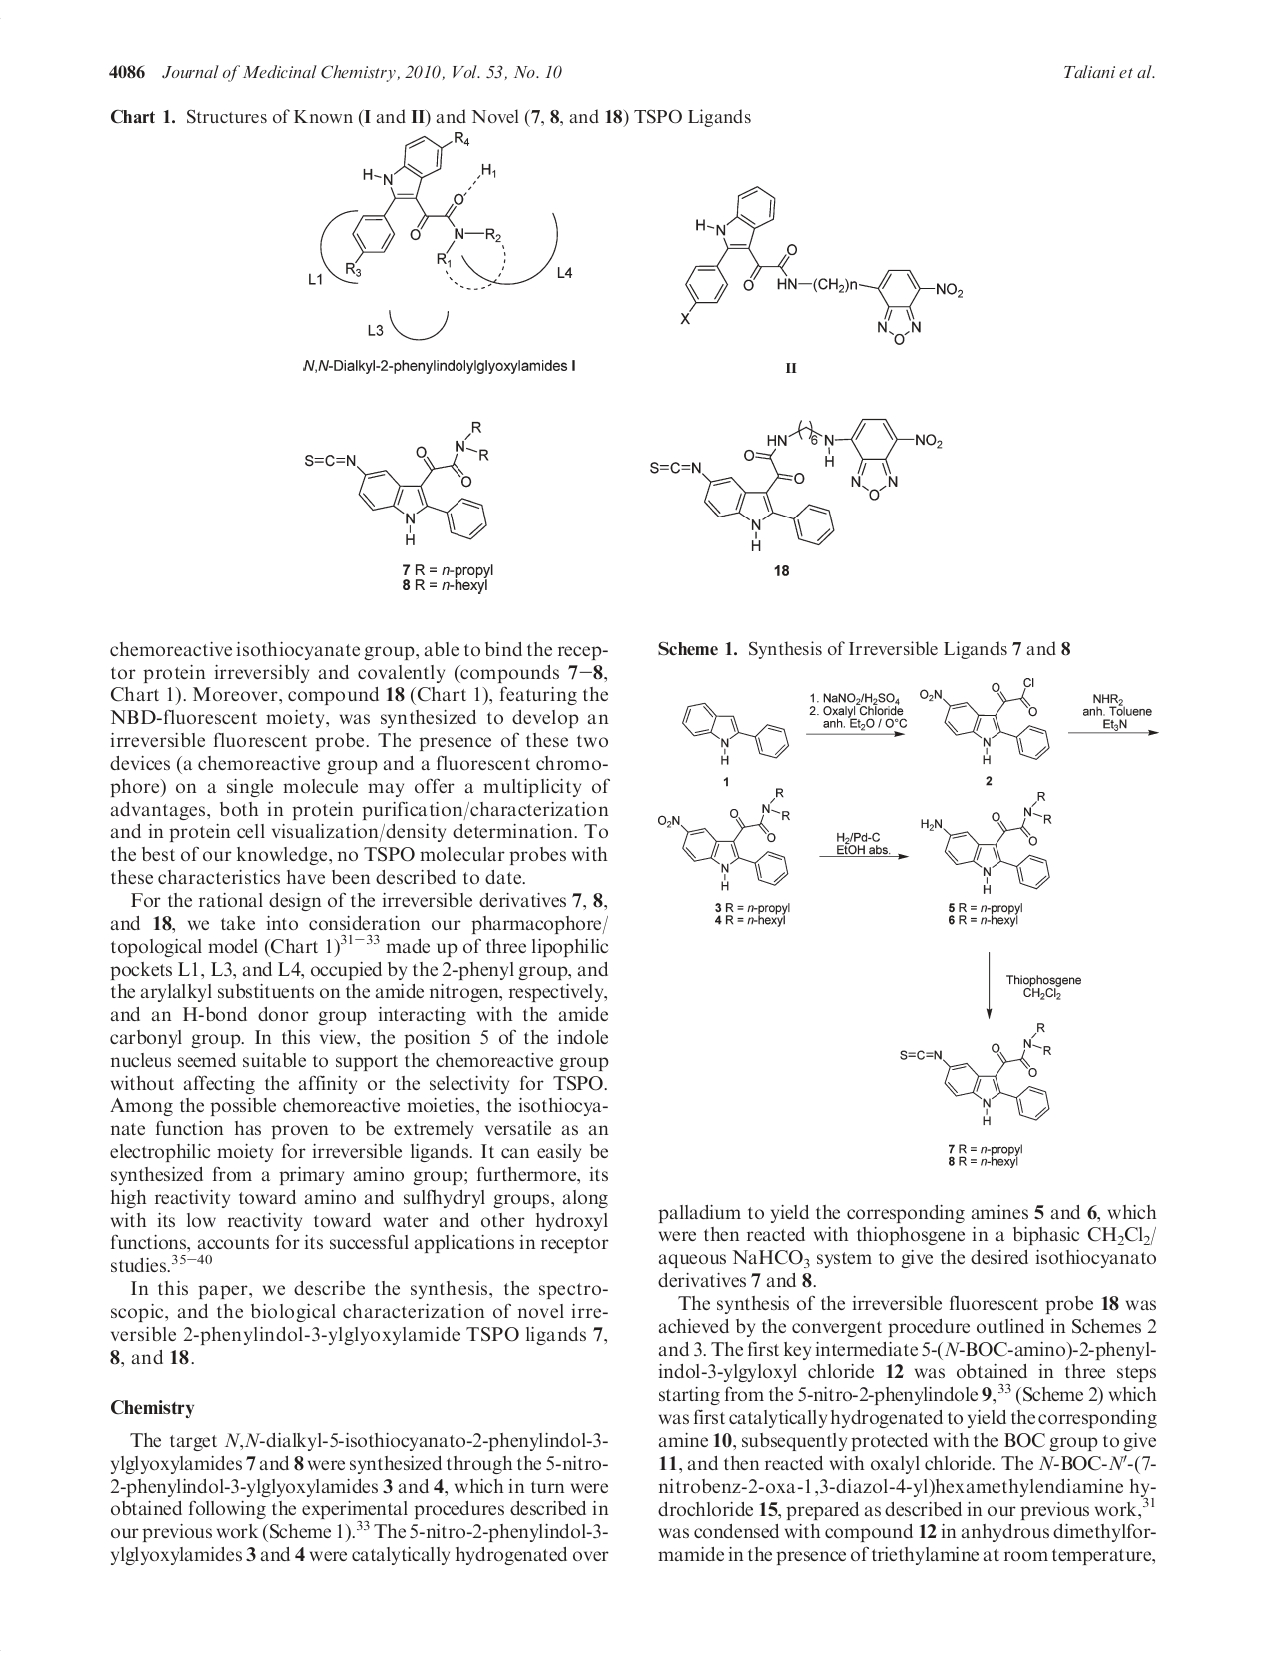exist_molecular: (670, 180, 973, 344), (648, 418, 946, 555), (301, 412, 508, 551), (332, 129, 504, 277), (899, 1019, 1056, 1126), (656, 782, 797, 895), (918, 670, 1056, 773), (670, 696, 799, 769)
